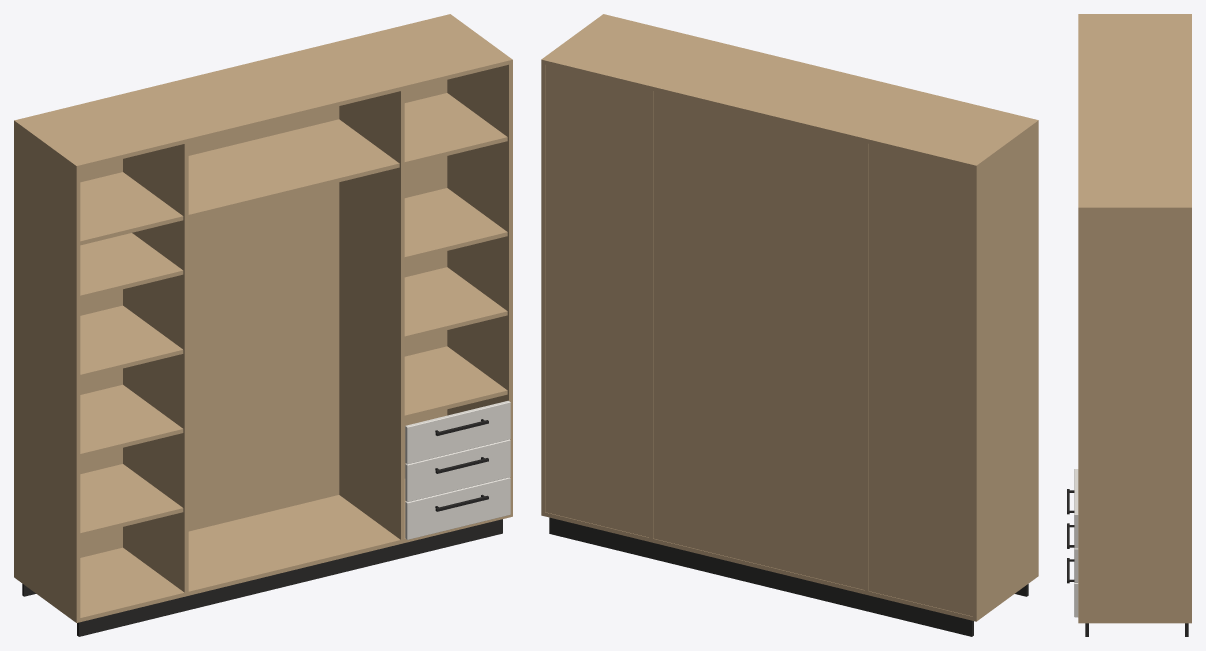
File: 19_garderoba_200.glb
The picture shows the model from 3 angles, left to right: view 1: azimuth 30°, elevation 25°; view 2: azimuth 150°, elevation 25°; view 3: azimuth 270°, elevation 25°; orthographic projection. The views are drawn at different scales.
Visible parts, largest first — view 1: Korpus, Cokol, Front_szuflada_3, Front_szuflada_2, Front_szuflada_1, Uchwyty; view 2: Korpus, Cokol; view 3: Korpus, Front_szuflada_3, Uchwyty.
Boxes of the visible parts, left/top/right/bottom form: Korpus: left=14, top=14, right=512, bottom=622; Cokol: left=22, top=519, right=502, bottom=636; Front_szuflada_3: left=405, top=400, right=510, bottom=464; Front_szuflada_2: left=405, top=439, right=510, bottom=501; Front_szuflada_1: left=405, top=477, right=510, bottom=539; Uchwyty: left=435, top=419, right=488, bottom=511; Korpus: left=541, top=14, right=1038, bottom=621; Cokol: left=549, top=517, right=1028, bottom=636; Korpus: left=1078, top=14, right=1191, bottom=623; Front_szuflada_3: left=1074, top=469, right=1078, bottom=548; Uchwyty: left=1067, top=489, right=1074, bottom=583.
Bounding box in the file's own units: 2.02 × 2.1 × 0.55.
